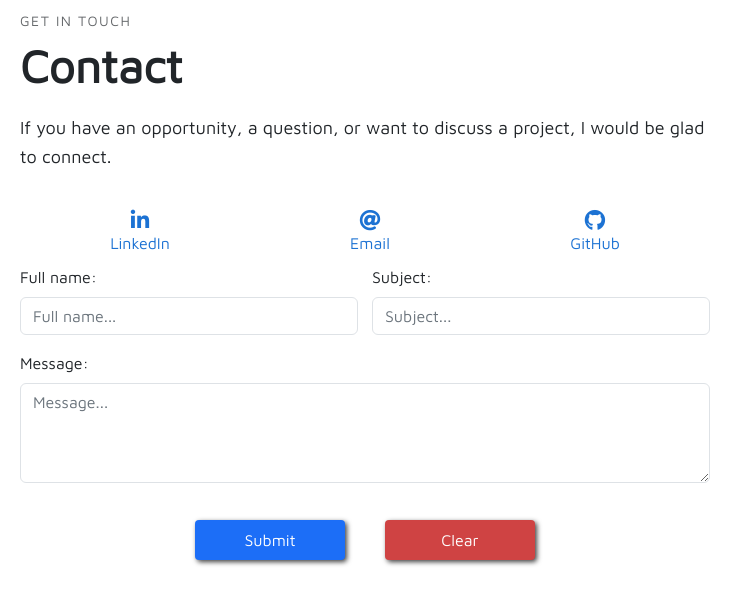
Test case: ContactForm › clears values and previous form errors when Clear is clicked
The width and height of the screenshot is (731, 607).
Click the button "Submit" at point(270, 540), box [195,520,345,560]
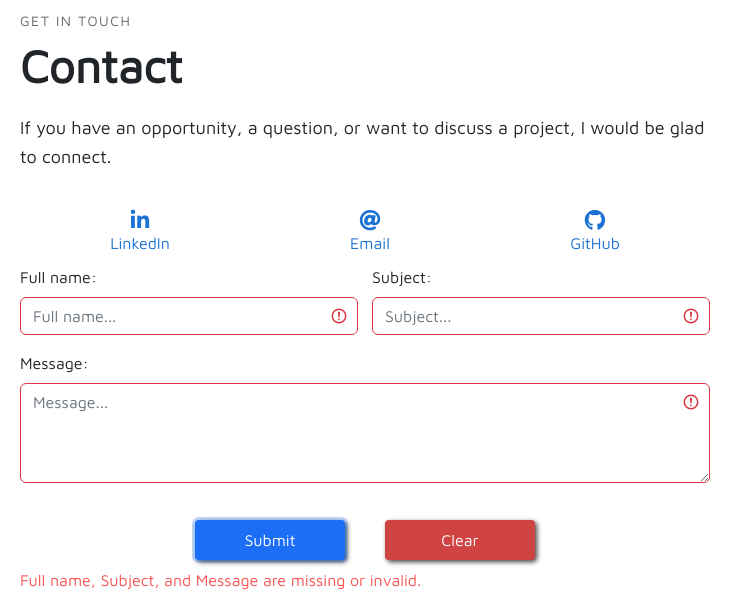
Expected: the text "Full name, Subject, and Message are missing or invalid." is shown, [20,571,421,589]
Type "Jane Doe" into the field labelled "Full name:" at point(189, 316), box [20,297,358,335]
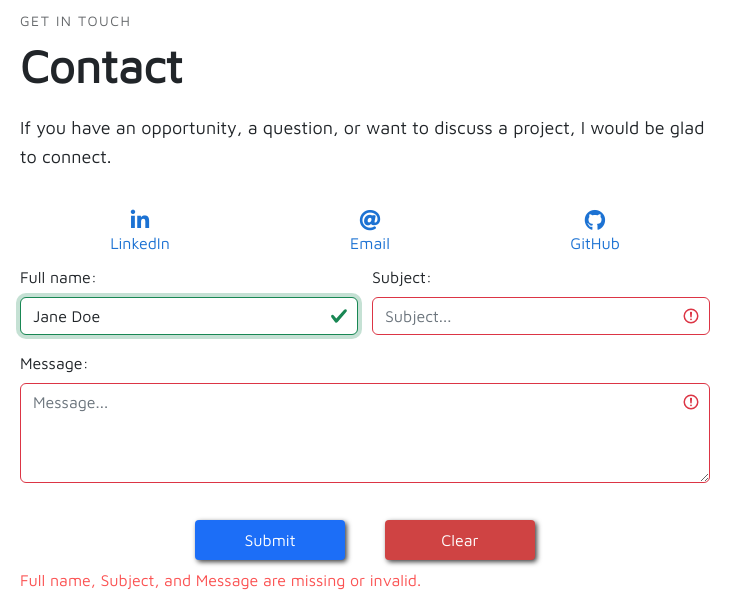
Type "Hello" into the field labelled "Subject:" at point(541, 316), box [372,297,710,335]
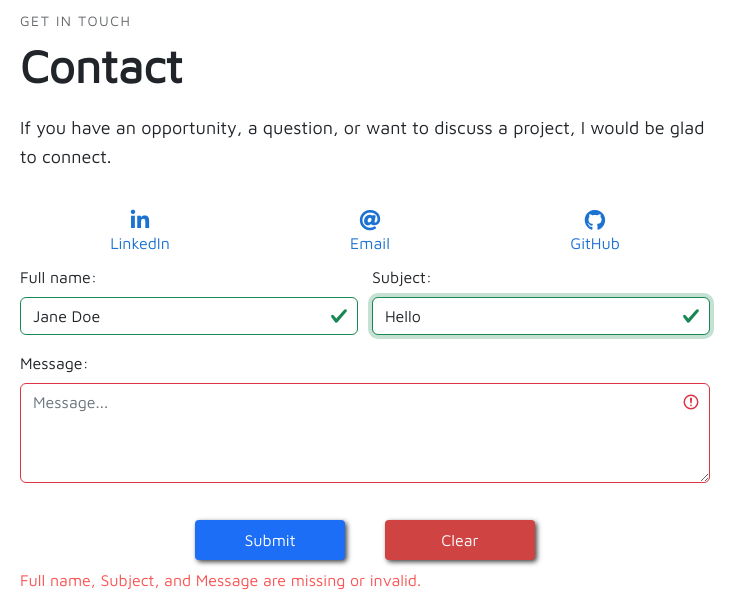
Type "Message" into the text box labelled "Message:" at point(365, 433), box [20,383,710,483]
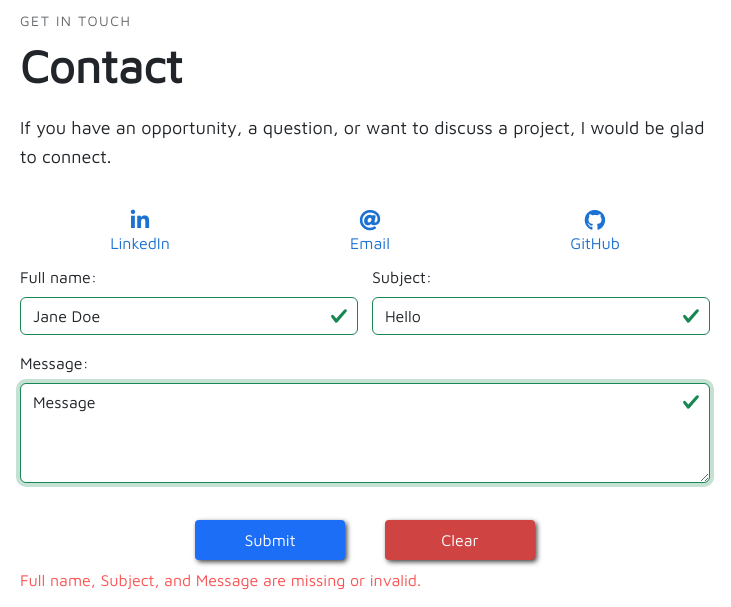
Click the button "Clear" at point(460, 540), box [385,520,535,560]
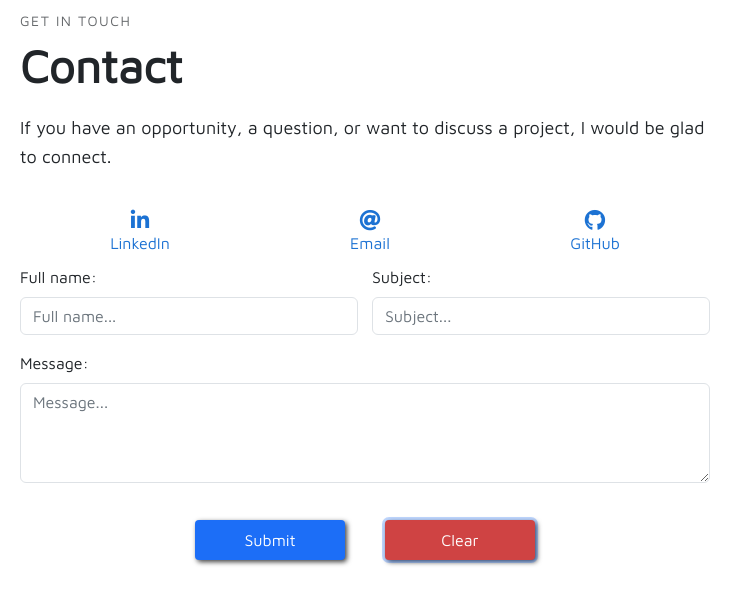
Expected: the field labelled "Full name:" is empty, [20,297,358,335]
Expected: the field labelled "Subject:" is empty, [372,297,710,335]
Expected: the text box labelled "Message:" is empty, [20,383,710,483]
